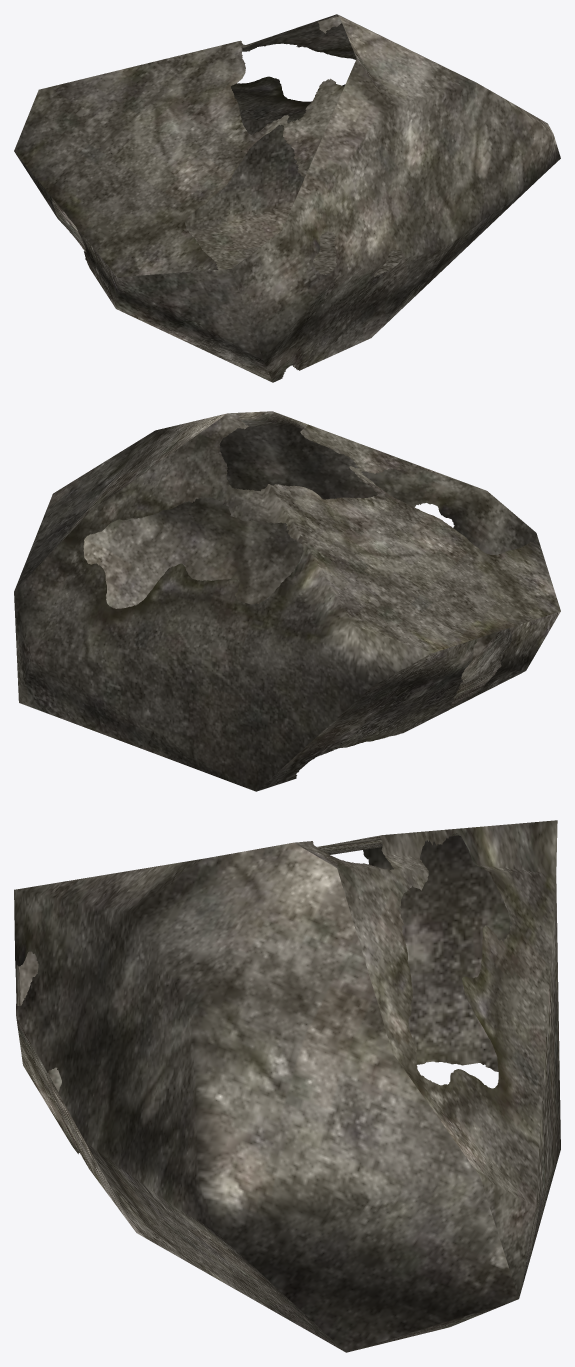
The picture shows the model from 3 angles, top to bottom: view 1: azimuth 30°, elevation 25°; view 2: azimuth 150°, elevation 25°; view 3: azimuth 270°, elevation 25°; orthographic projection. The views are drawn at different scales.
Parts seen in each view (by area): view 1: SM_Rock_Small_03_Low_LOD0; view 2: SM_Rock_Small_03_Low_LOD0; view 3: SM_Rock_Small_03_Low_LOD0.
Part boxes in pixels (bbox=[...]): SM_Rock_Small_03_Low_LOD0: bbox=[14, 14, 560, 382]; SM_Rock_Small_03_Low_LOD0: bbox=[14, 411, 560, 791]; SM_Rock_Small_03_Low_LOD0: bbox=[14, 820, 560, 1352].
Size of the model in its own units: 0.5915 by 0.3393 by 0.4105.
1 material, 1 textured.
